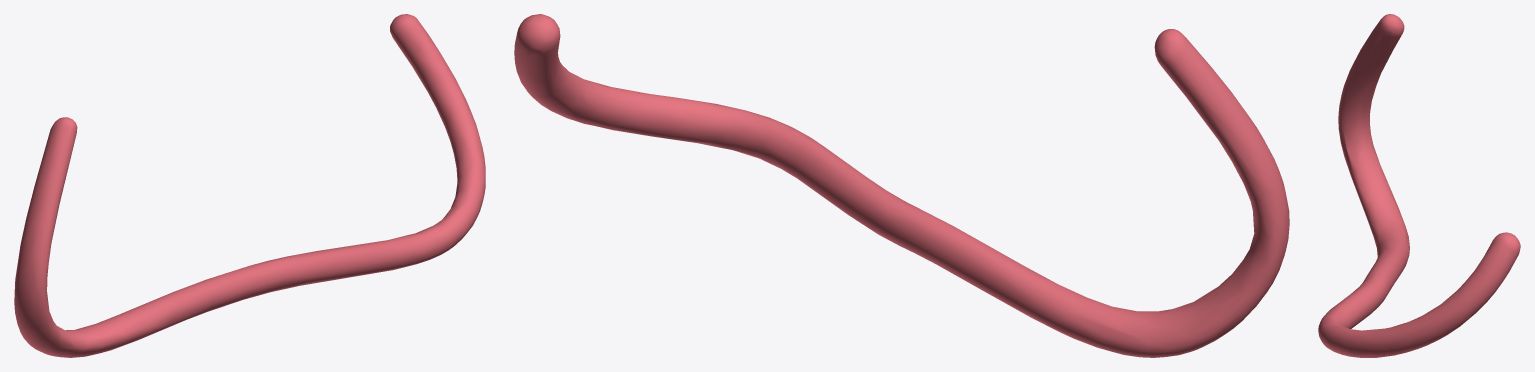
Rendered from fma22840_fj2227.glb.
3 renders of one model, left to right at view 1: azimuth 30°, elevation 25°; view 2: azimuth 150°, elevation 25°; view 3: azimuth 270°, elevation 25°, orthographic. The views are drawn at different scales.
Parts seen in each view (by area): view 1: FMA22840_FJ2227; view 2: FMA22840_FJ2227; view 3: FMA22840_FJ2227.
Boxes of the visible parts, x1,y1,x2,y2 form: FMA22840_FJ2227: [14, 14, 485, 357]; FMA22840_FJ2227: [514, 14, 1289, 357]; FMA22840_FJ2227: [1318, 14, 1520, 357].
Bounding box in the file's own units: 0.0447 × 0.0206 × 0.017.
